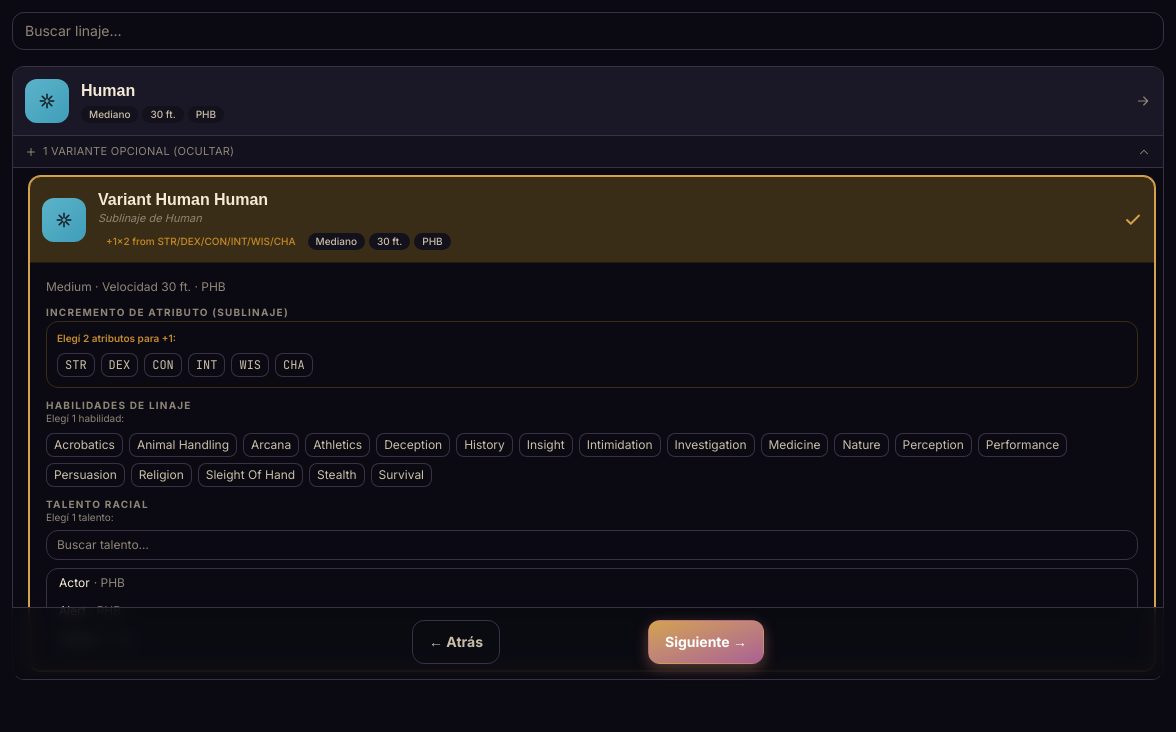
Test case: W-C2: RaceSkillPicker enforces the count (N=1 for Variant Human) › re-enables other buttons after deselecting the picked skill
Note: Pick and then deselect
Click the button "Perception" at (933, 445), box top-left (895, 433), bottom-right (972, 457)
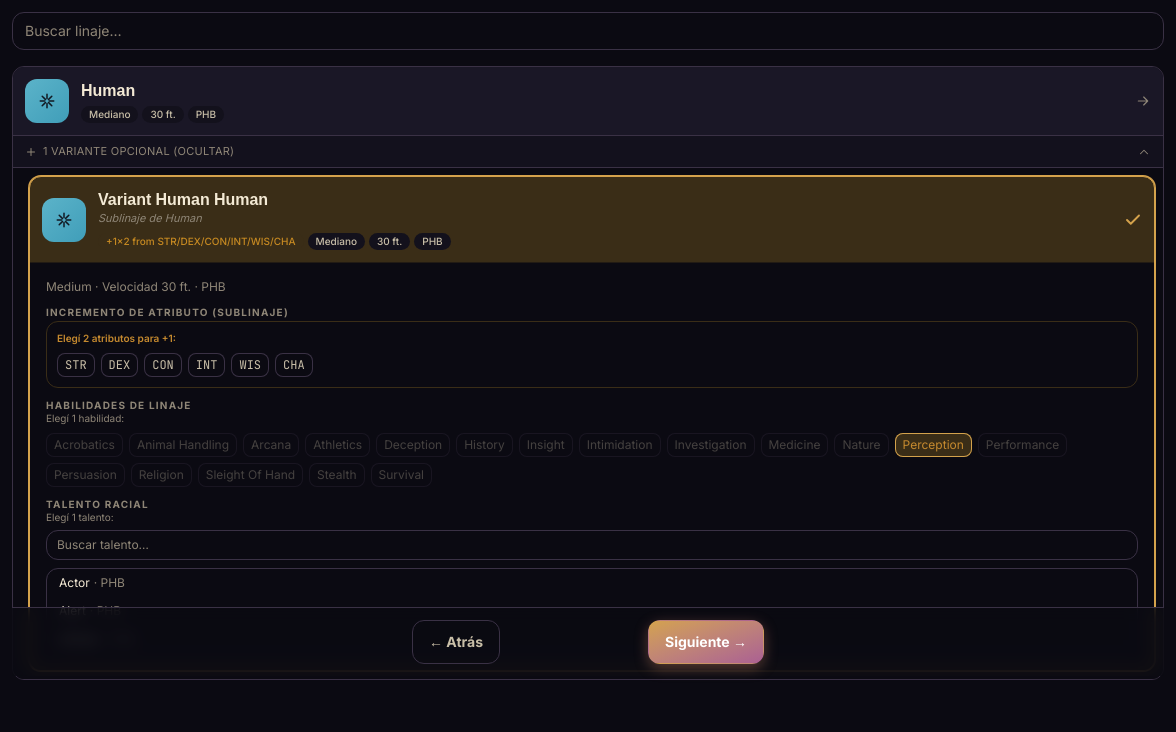
Click the button "Perception" at (933, 445), box top-left (895, 433), bottom-right (972, 457)
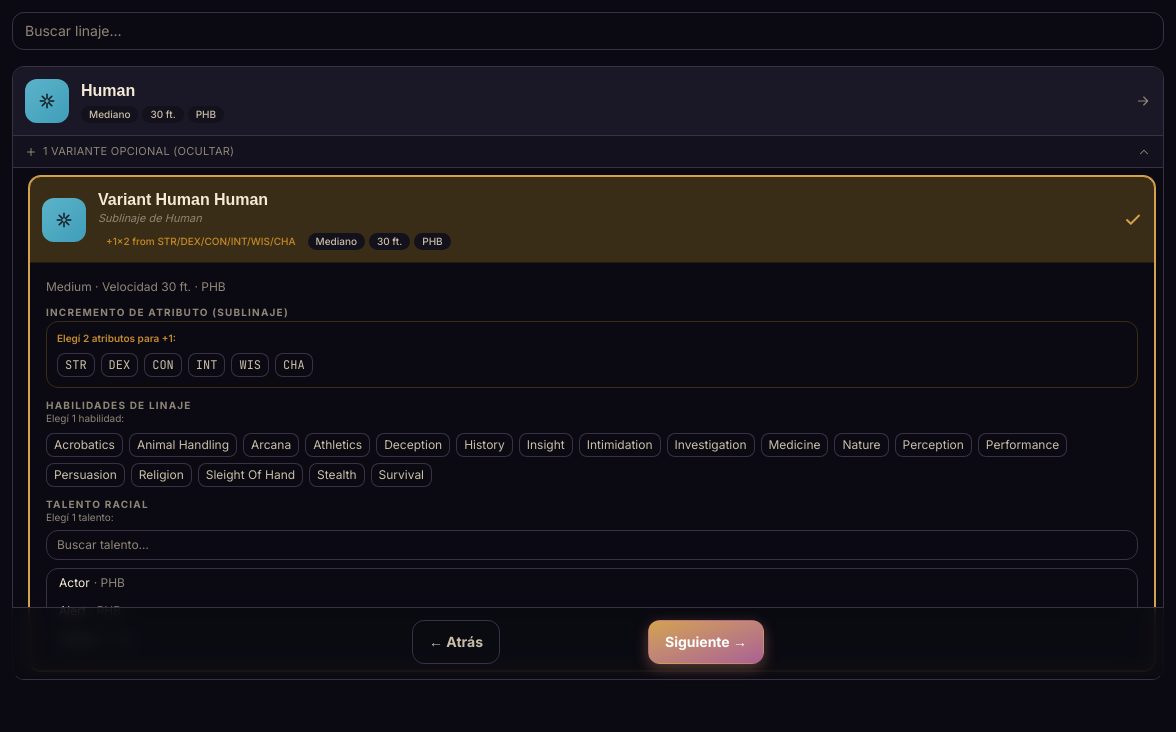
Expected: the button "Stealth" is enabled, top-left (309, 463), bottom-right (365, 487)
